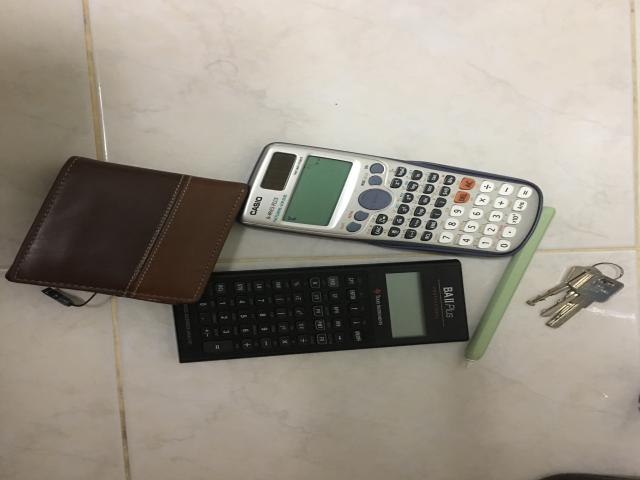Keys: (527, 262, 623, 328)
Wallet: (5, 157, 247, 304)
